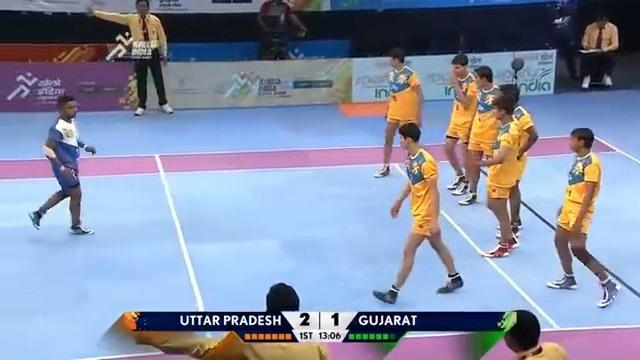Player: (370, 120, 465, 305), (544, 125, 622, 309), (26, 92, 99, 237), (376, 48, 435, 157), (495, 101, 517, 225), (448, 60, 475, 157), (475, 67, 495, 165)
referee: (88, 0, 175, 116), (497, 309, 568, 359), (578, 12, 619, 89)
